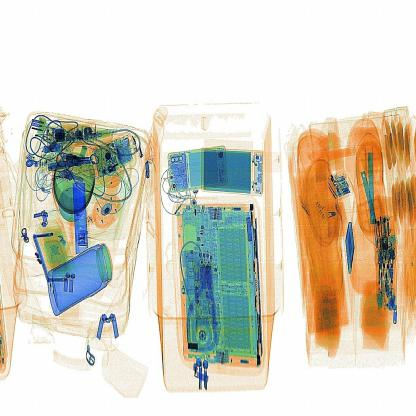pliers: (65, 176, 100, 260)
